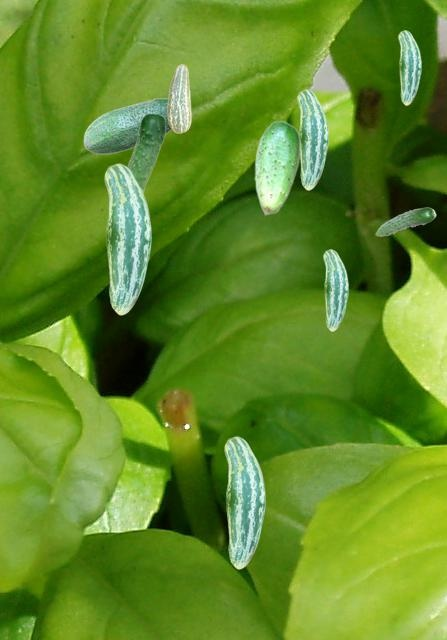cucumber: (104, 163, 150, 314), (224, 436, 264, 568), (83, 97, 170, 153), (254, 120, 299, 214), (127, 113, 165, 192), (297, 89, 327, 189), (323, 249, 347, 330), (375, 207, 435, 235), (398, 30, 420, 104), (167, 64, 190, 132)
